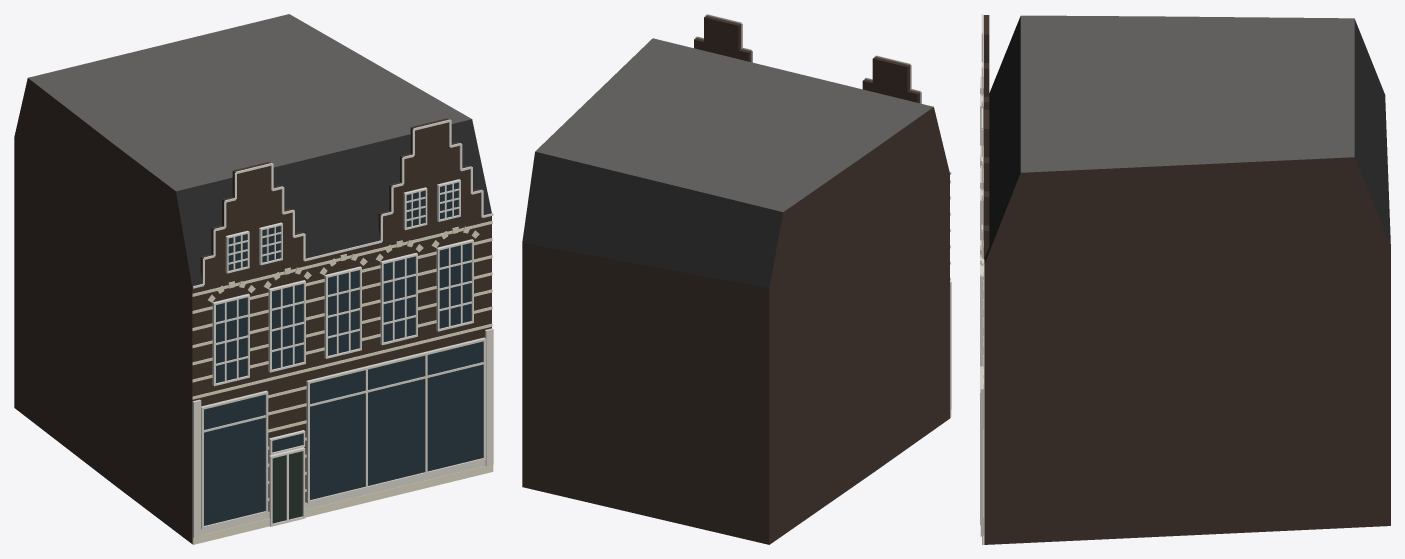
3 views of the same model, side by side, from view 1: azimuth 30°, elevation 25°; view 2: azimuth 150°, elevation 25°; view 3: azimuth 270°, elevation 25° (orthographic). The views are drawn at different scales.
Visible parts, largest first — view 1: spec-0363100012182857; view 2: spec-0363100012182857; view 3: spec-0363100012182857.
Boxes of the visible parts, <box> form: spec-0363100012182857: <box>14,14,493,544</box>; spec-0363100012182857: <box>522,14,951,544</box>; spec-0363100012182857: <box>980,14,1390,544</box>.
Size of the model in its own units: 12.09 by 13.97 by 13.18.
